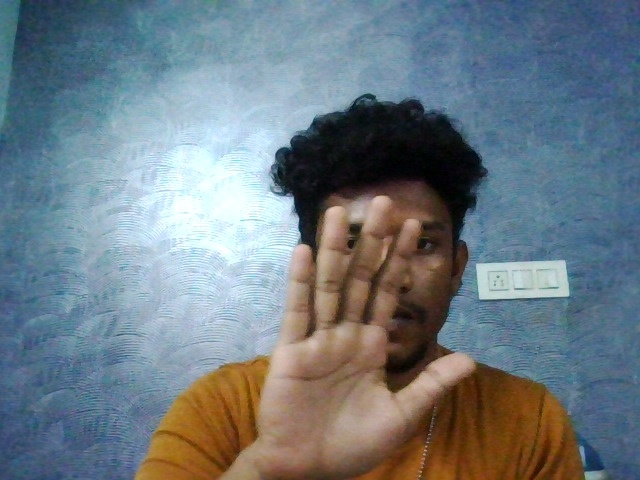hello: (245, 195, 491, 473)
